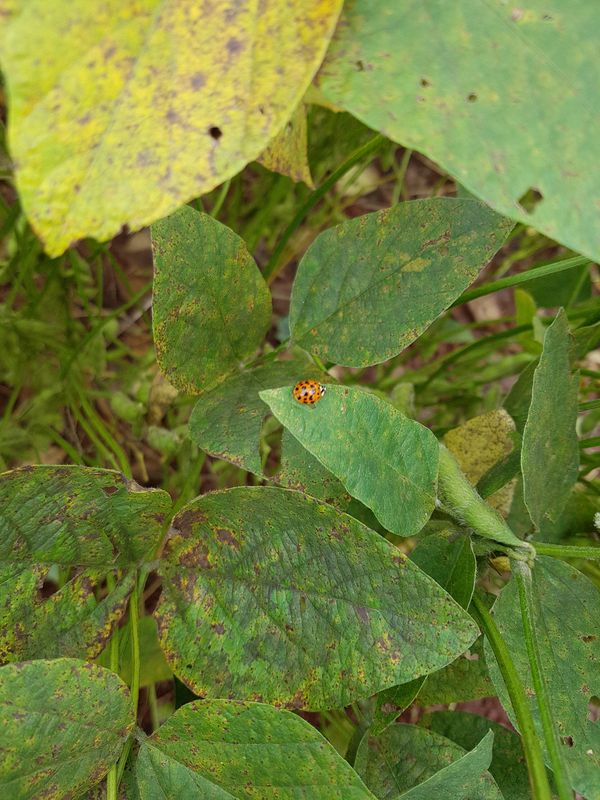Coccinellidae: (281, 370, 337, 416)
